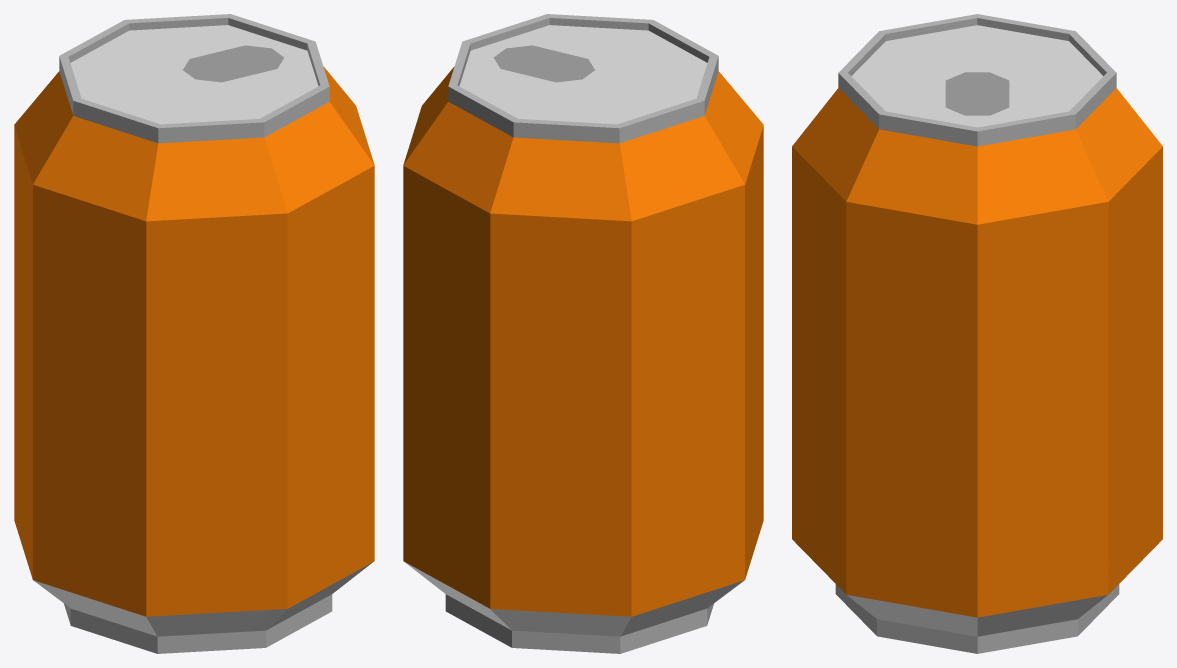
File: drink_004.obj
3 renders of one model, left to right at view 1: azimuth 30°, elevation 25°; view 2: azimuth 150°, elevation 25°; view 3: azimuth 270°, elevation 25°, orthographic.
Visible parts, largest first — view 1: drink_004; view 2: drink_004; view 3: drink_004.
Part boxes in pixels (left/top/right/bottom): drink_004: left=14, top=14, right=374, bottom=653; drink_004: left=403, top=14, right=763, bottom=653; drink_004: left=792, top=14, right=1162, bottom=653.
Bounding box in the file's own units: 0.0752 × 0.1165 × 0.0752.
